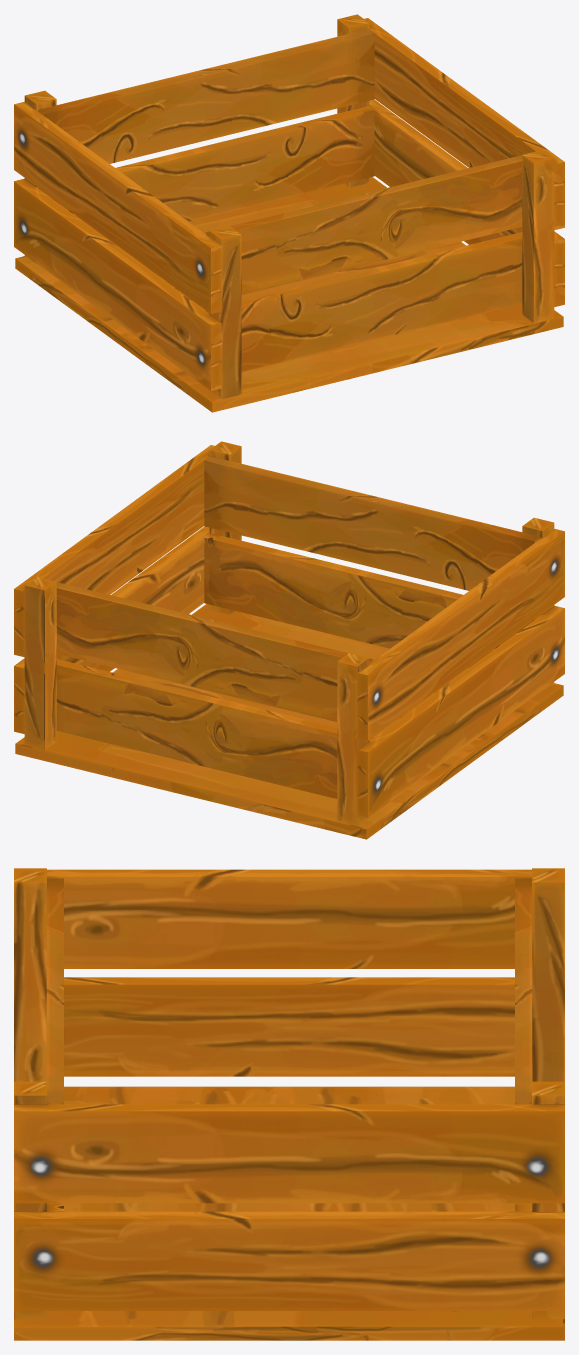
Rendered from box_square2.gltf.
The picture shows the model from 3 angles, top to bottom: view 1: azimuth 30°, elevation 25°; view 2: azimuth 150°, elevation 25°; view 3: azimuth 270°, elevation 25°; orthographic projection. The views are drawn at different scales.
Visible parts, largest first — view 1: fruis_and_vegetables.014; view 2: fruis_and_vegetables.014; view 3: fruis_and_vegetables.014.
Boxes of the visible parts, x1,y1,x2,y2 form: fruis_and_vegetables.014: [14, 14, 564, 412]; fruis_and_vegetables.014: [14, 441, 564, 839]; fruis_and_vegetables.014: [14, 868, 564, 1340].
Bounding box in the file's own units: 0.6953 × 0.3204 × 0.6697.
Materials: 1 (1 with a texture image).
